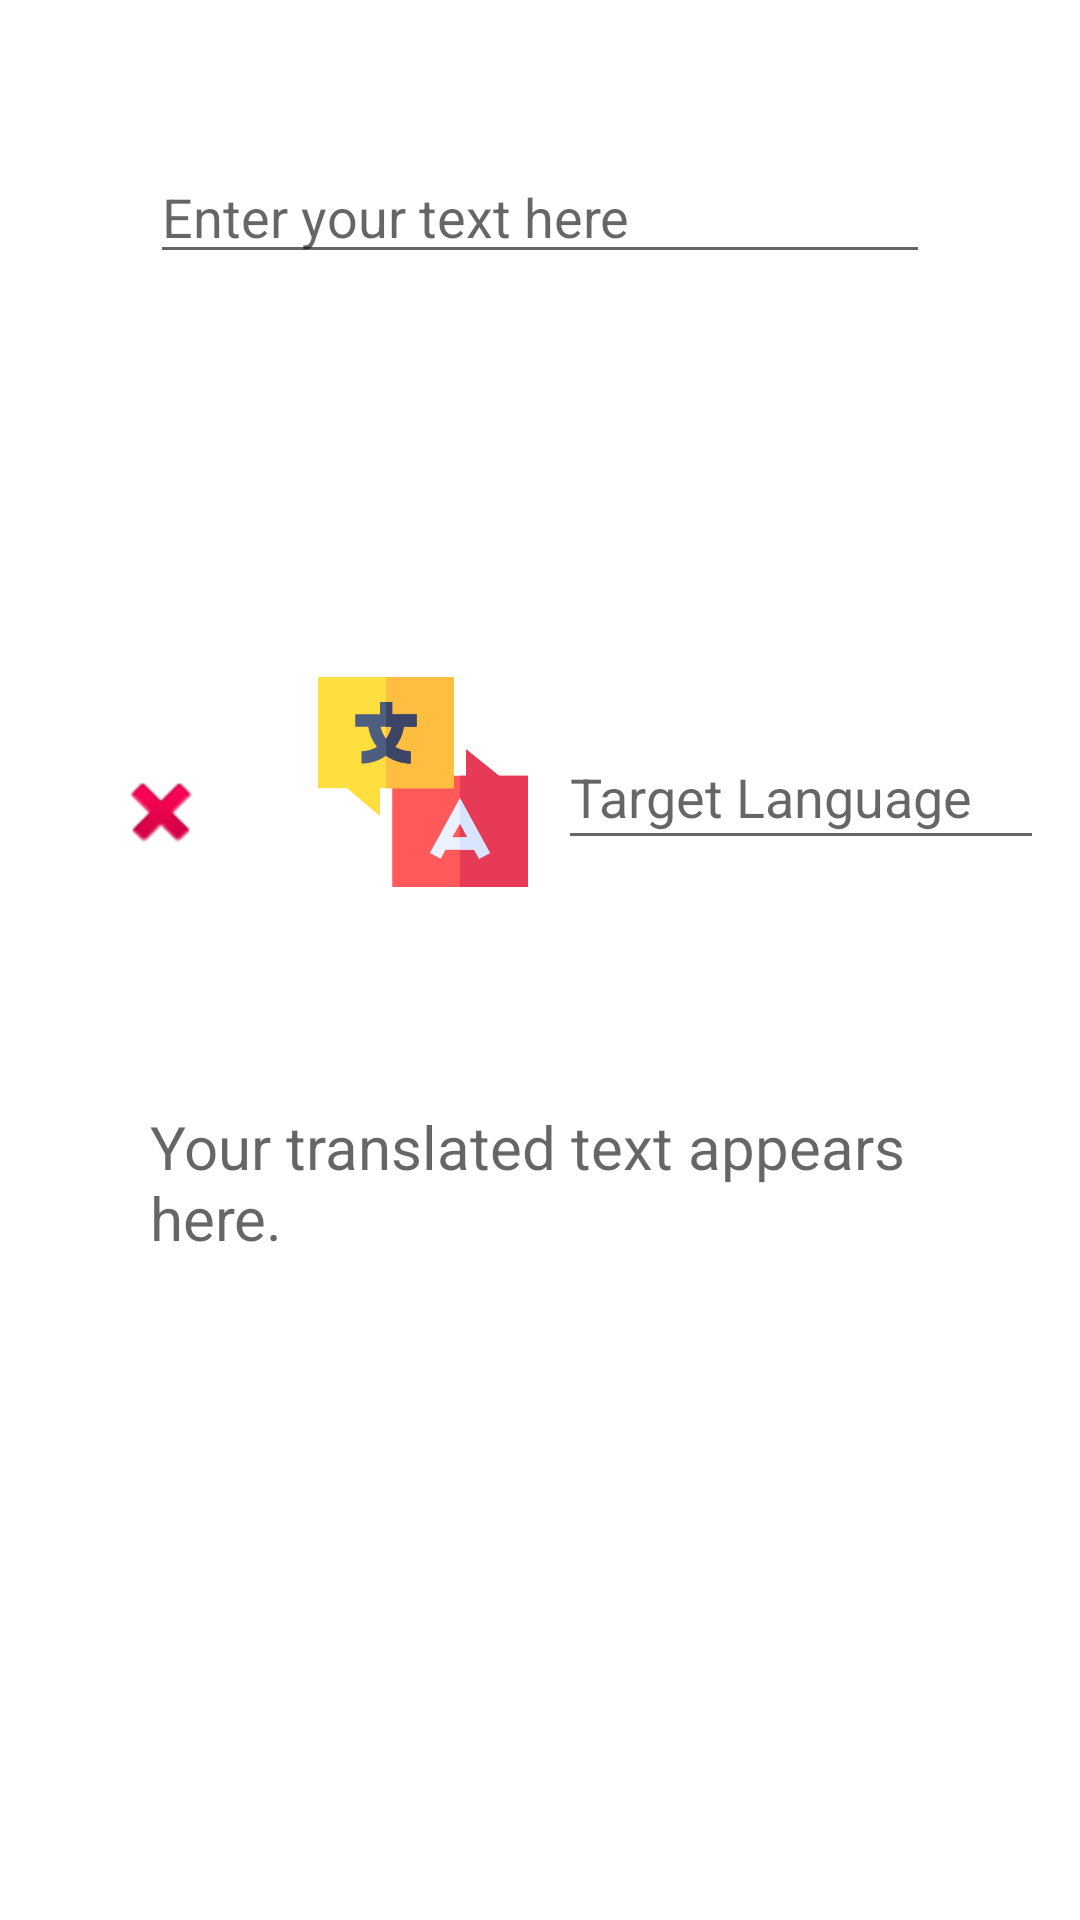

Named icons in this screenshot (1080w x 1920h) and their bounding boxes, (x1, y1, x2, y2):
delete: (130, 783, 192, 842)
translation: (318, 677, 528, 887)
